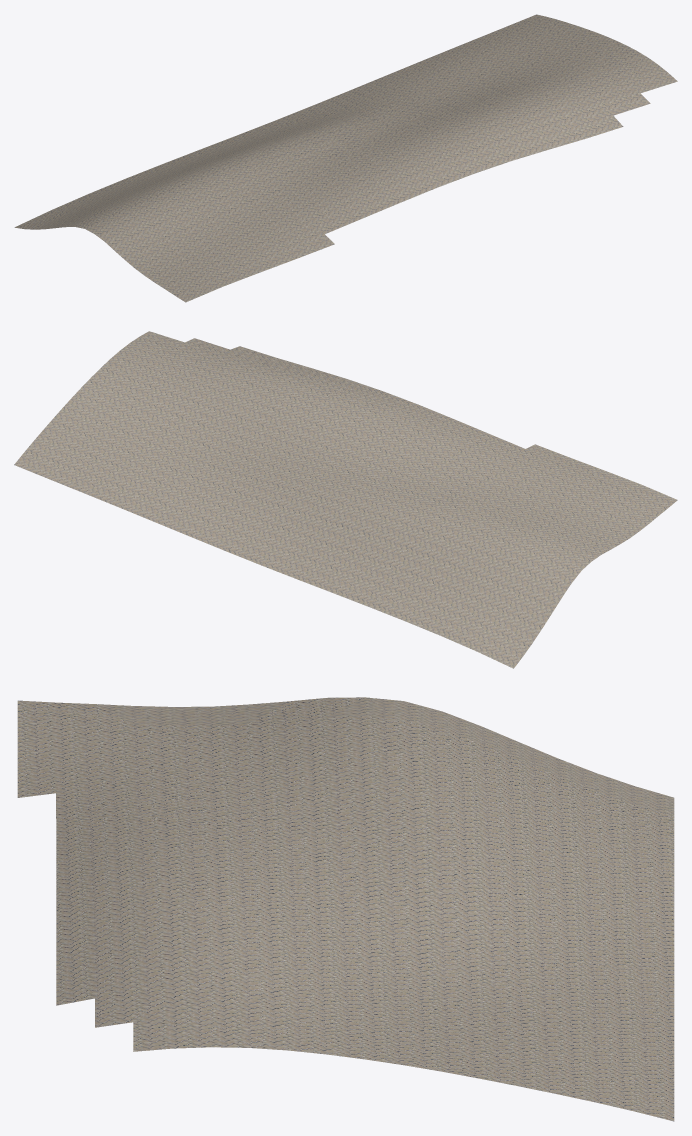
Rendered from sealing.dae.
The picture shows the model from 3 angles, top to bottom: view 1: azimuth 30°, elevation 25°; view 2: azimuth 150°, elevation 25°; view 3: azimuth 270°, elevation 25°; orthographic projection. The views are drawn at different scales.
Parts seen in each view (by area): view 1: Versiegelung; view 2: Versiegelung; view 3: Versiegelung.
Boxes of the visible parts, bbox=[...] form: Versiegelung: bbox=[14, 14, 677, 302]; Versiegelung: bbox=[14, 331, 677, 668]; Versiegelung: bbox=[17, 697, 674, 1121].
Size of the model in its own units: 52.5 by 29.88 by 11.95.
Materials: 1 (1 with a texture image).
